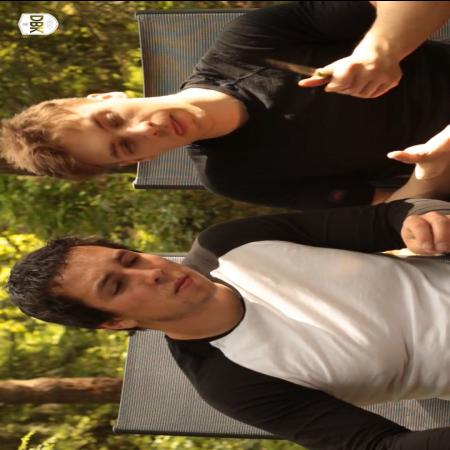long weapon: (247, 46, 375, 98)
